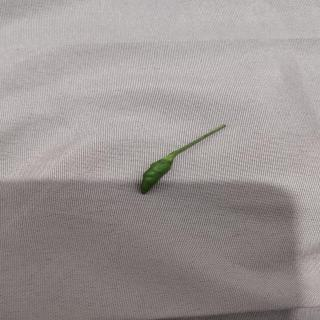Cabai Hijau: (138, 120, 230, 204)
